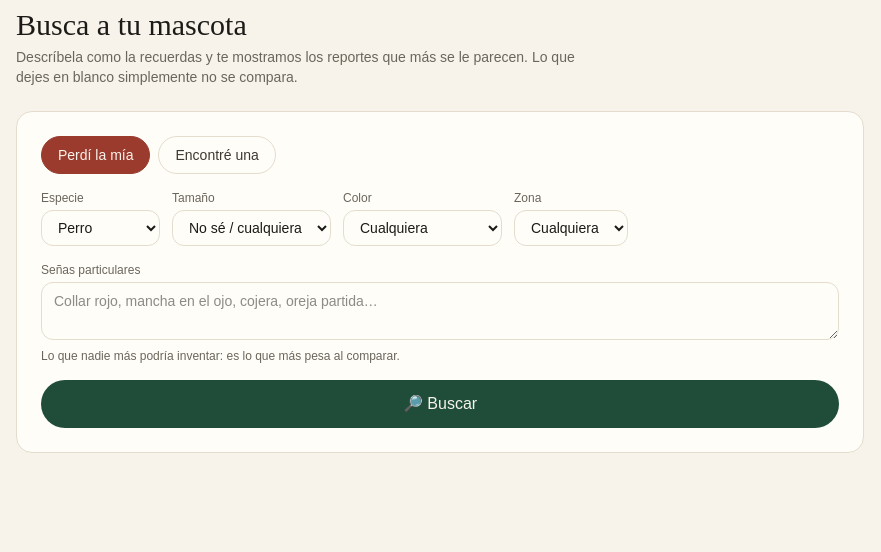
BuscarMascota › en modo "Encontré una" busca entre las perdidas
The width and height of the screenshot is (881, 552).
Click the button "Encontré una" at x=217, y=155, box x1=158 y1=136 x2=276 y2=174
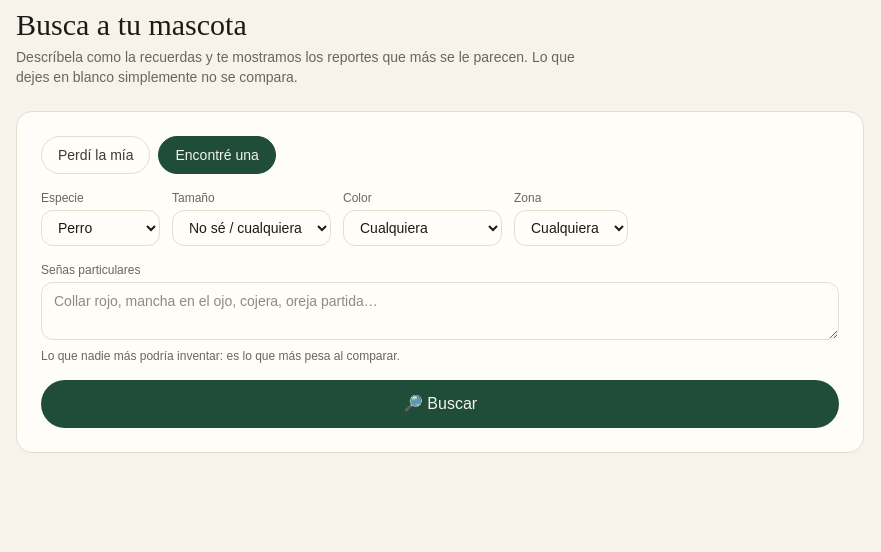
Click the button "🔎 Buscar" at x=440, y=404, box x1=41 y1=380 x2=839 y2=428
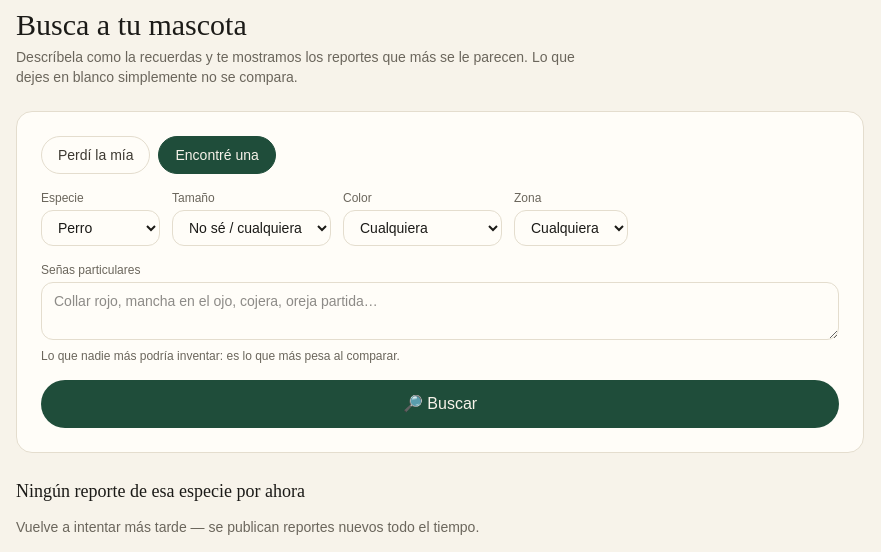
Expected: the heading "Ningún reporte de esa especie por ahora" is shown, x1=16 y1=481 x2=305 y2=501
